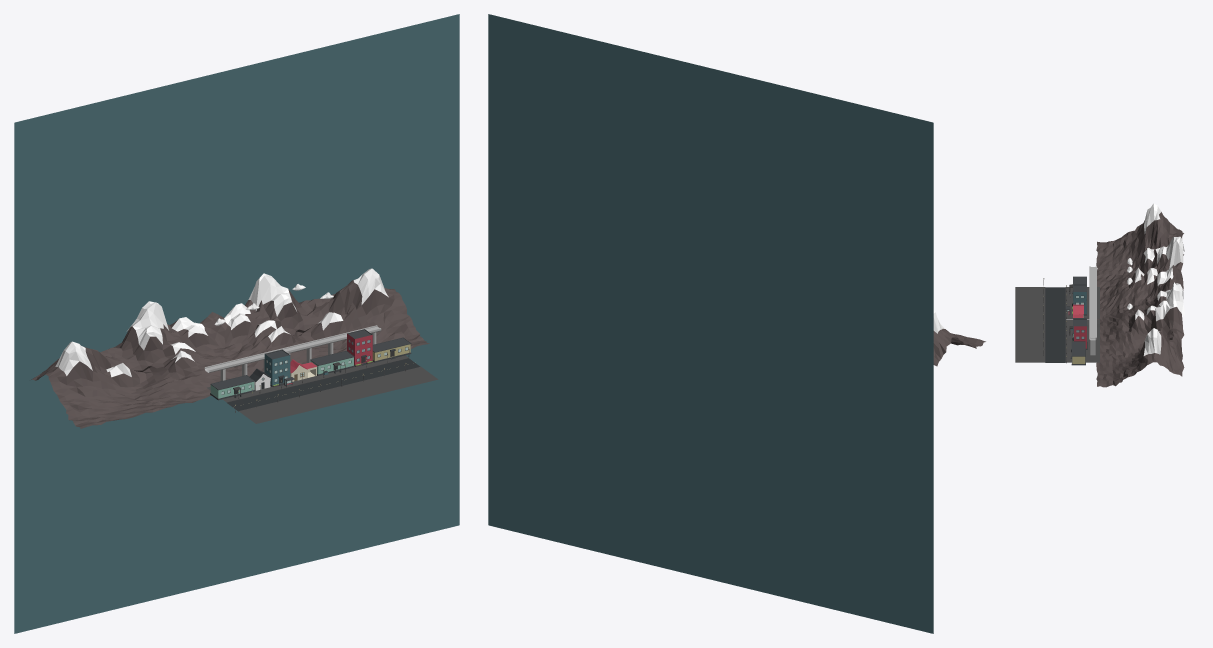
File: CenaPrincipal.FBX
The picture shows the model from 3 angles, left to right: view 1: azimuth 30°, elevation 25°; view 2: azimuth 150°, elevation 25°; view 3: azimuth 270°, elevation 25°; orthographic projection. The views are drawn at different scales.
Parts seen in each view (by area): view 1: Cena01; view 2: Cena01; view 3: Cena01.
Boxes of the visible parts, x1,y1,x2,y2 form: Cena01: (14,14,459,633); Cena01: (488,14,985,633); Cena01: (1015,203,1184,387).
Size of the model in its own units: 6240 by 6851 by 2613.
